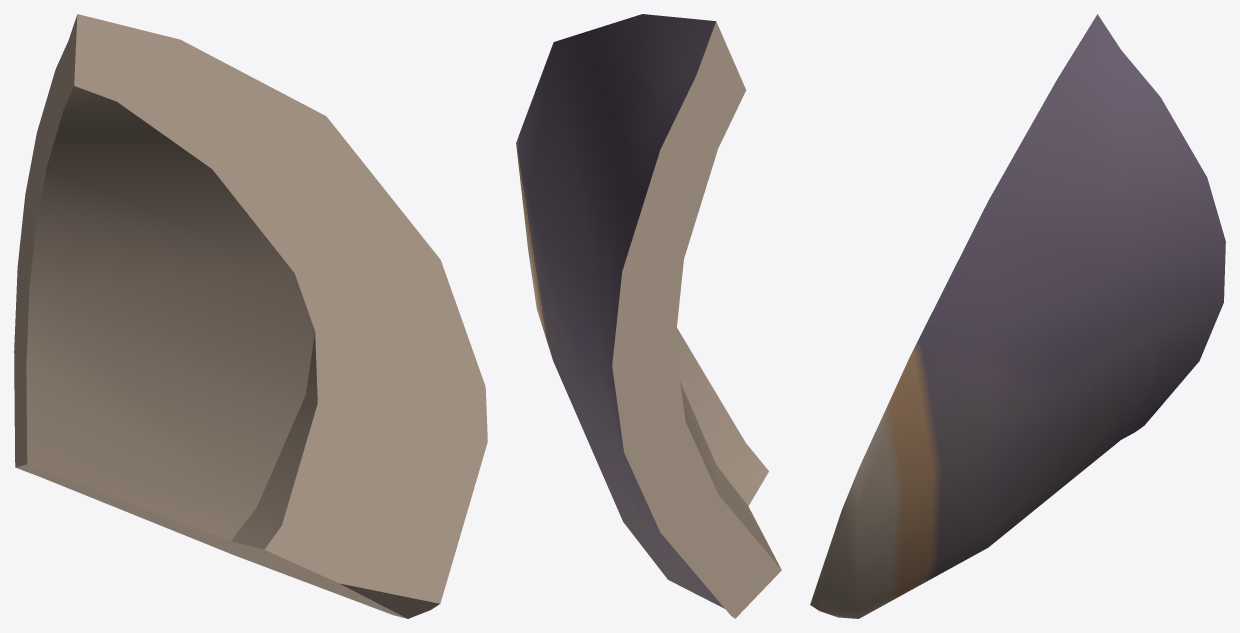
File: Pot_Cell16.fbx
3 views of the same model, side by side, from view 1: azimuth 30°, elevation 25°; view 2: azimuth 150°, elevation 25°; view 3: azimuth 270°, elevation 25° (orthographic). The views are drawn at different scales.
Parts seen in each view (by area): view 1: jar1_cell.016; view 2: jar1_cell.016; view 3: jar1_cell.016.
Part boxes in pixels (x1,y1,x2,y2): jar1_cell.016: [14, 14, 487, 618]; jar1_cell.016: [516, 14, 781, 618]; jar1_cell.016: [810, 14, 1225, 618].
Bounding box in the file's own units: 81.71 × 130 × 94.41.
1 material, 1 textured.
